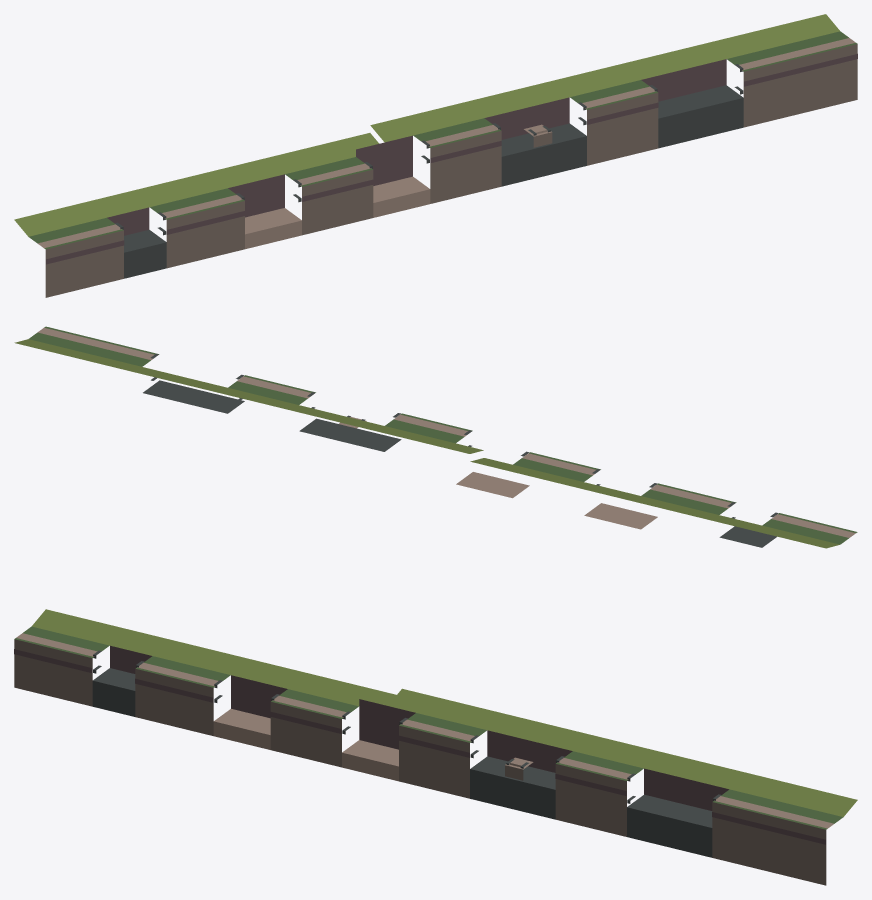
Rendered from terrain.glb.
The picture shows the model from 3 angles, top to bottom: view 1: azimuth 30°, elevation 25°; view 2: azimuth 150°, elevation 25°; view 3: azimuth 330°, elevation 25°; orthographic projection.
Parts seen in each view (by area): view 1: Hill1, Hill0, Front5, Water4, Front3, Front4, Front0, Front1, Water3, Front2, Back4, Back2 (+15 smaller); view 2: Hill1, Hill0, Water3, Water4, Verge5, Floor1, Floor2, Road5, Verge1, Verge0, Verge3, Water0 (+7 smaller); view 3: Hill1, Hill0, Front5, Water4, Front4, Front3, Front0, Front1, Water3, Front2, Back4, Back3 (+16 smaller).
Part boxes in pixels (left/top/right/bottom): Hill1: left=370, top=14, right=839, bottom=142; Hill0: left=14, top=133, right=378, bottom=236; Front5: left=742, top=43, right=857, bottom=127; Water4: left=658, top=85, right=743, bottom=148; Front3: left=429, top=129, right=501, bottom=203; Front4: left=586, top=91, right=658, bottom=165; Front0: left=44, top=229, right=123, bottom=297; Front1: left=165, top=199, right=244, bottom=268; Water3: left=501, top=123, right=586, bottom=186; Front2: left=301, top=168, right=373, bottom=235; Back4: left=641, top=59, right=726, bottom=101; Back2: left=356, top=135, right=412, bottom=185; Hill1: left=14, top=339, right=483, bottom=453; Hill0: left=470, top=458, right=839, bottom=548; Water3: left=299, top=418, right=401, bottom=451; Water4: left=143, top=380, right=244, bottom=413; Verge5: left=29, top=332, right=150, bottom=366; Floor1: left=584, top=503, right=657, bottom=529; Floor2: left=456, top=472, right=529, bottom=498; Road5: left=37, top=327, right=157, bottom=360; Verge1: left=641, top=489, right=727, bottom=514; Verge0: left=762, top=519, right=848, bottom=544; Verge3: left=385, top=419, right=464, bottom=443; Water0: left=719, top=526, right=776, bottom=547; Hill1: left=388, top=688, right=857, bottom=816; Hill0: left=31, top=609, right=396, bottom=706; Front5: left=712, top=801, right=827, bottom=885; Water4: left=627, top=794, right=712, bottom=857; Front4: left=555, top=762, right=627, bottom=836; Front3: left=399, top=724, right=471, bottom=798; Front0: left=14, top=638, right=93, bottom=706; Front1: left=135, top=667, right=214, bottom=735; Water3: left=470, top=756, right=555, bottom=819; Front2: left=270, top=700, right=342, bottom=767; Back4: left=644, top=768, right=728, bottom=810; Back3: left=487, top=730, right=572, bottom=772.
Bounding box in the file's own units: 114 × 8.4 × 7.76.
